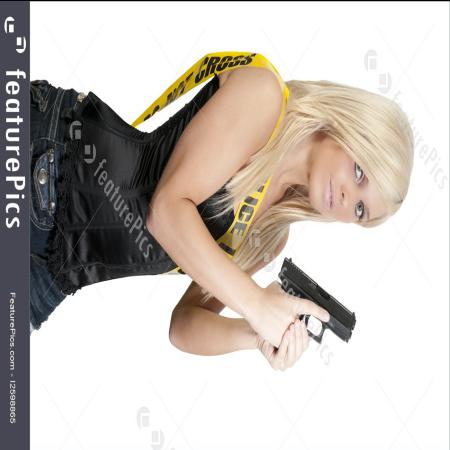Pistol: (273, 251, 357, 362)
